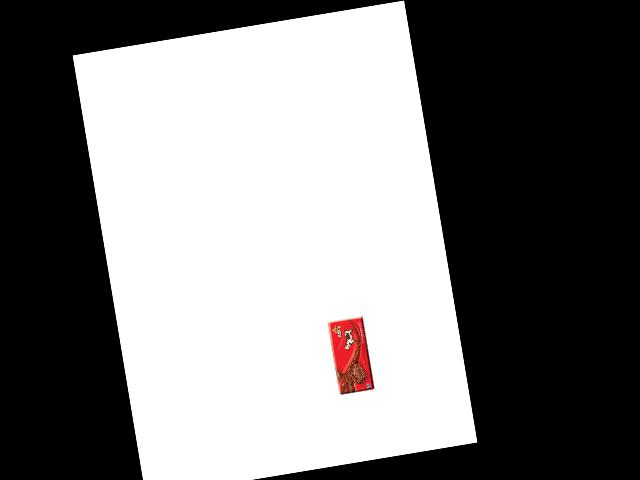chocolate: (321, 324, 368, 398)
